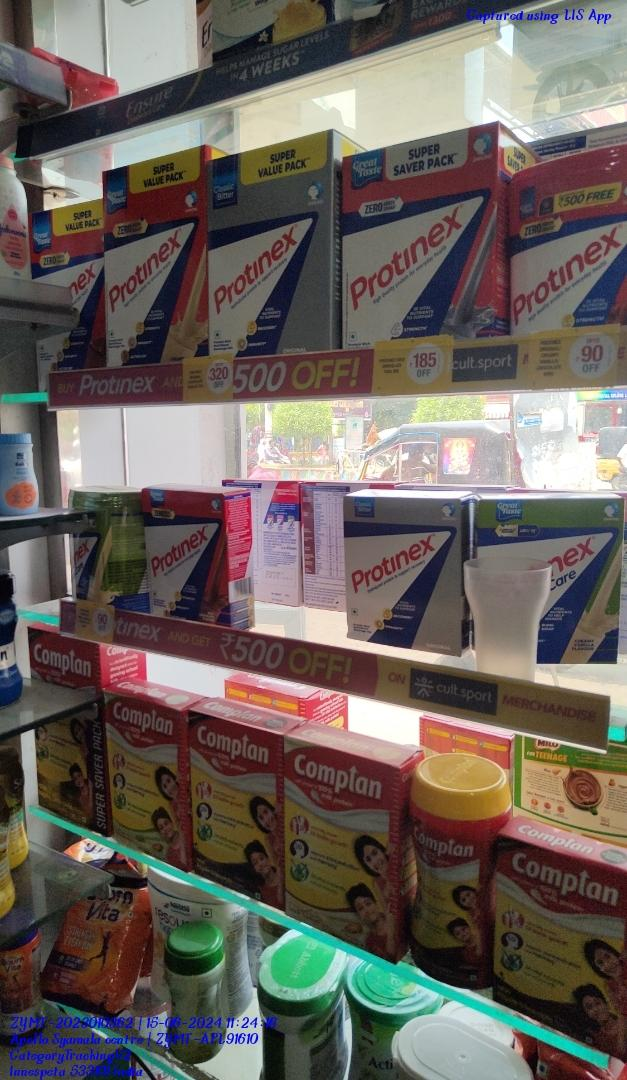COMPLAN_CHOCOLATE_500_GMS_JAR: (408, 765, 486, 984)
COMPLAN_CHOCOLATE_500_GMS_PACK: (497, 825, 627, 1023), (191, 710, 280, 901)
COMPLAN_KESAR_BADAM_500_GMS_PACK: (286, 738, 400, 955)
COMPLAN_PISTA_BADAM_500_GMS_PACK: (110, 691, 185, 866)
PROTINEX_CHOCOLATE_400_G_JAR: (511, 150, 627, 329)
